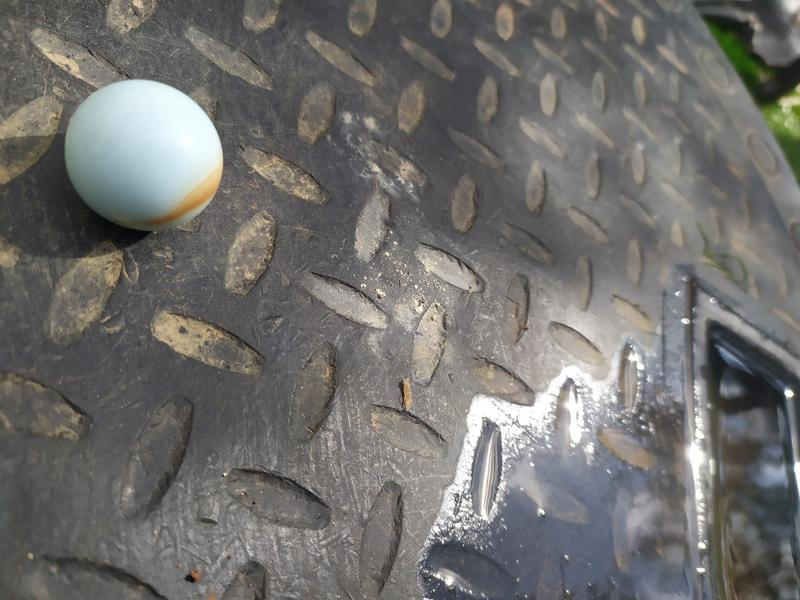Warning: (61, 77, 227, 235)
